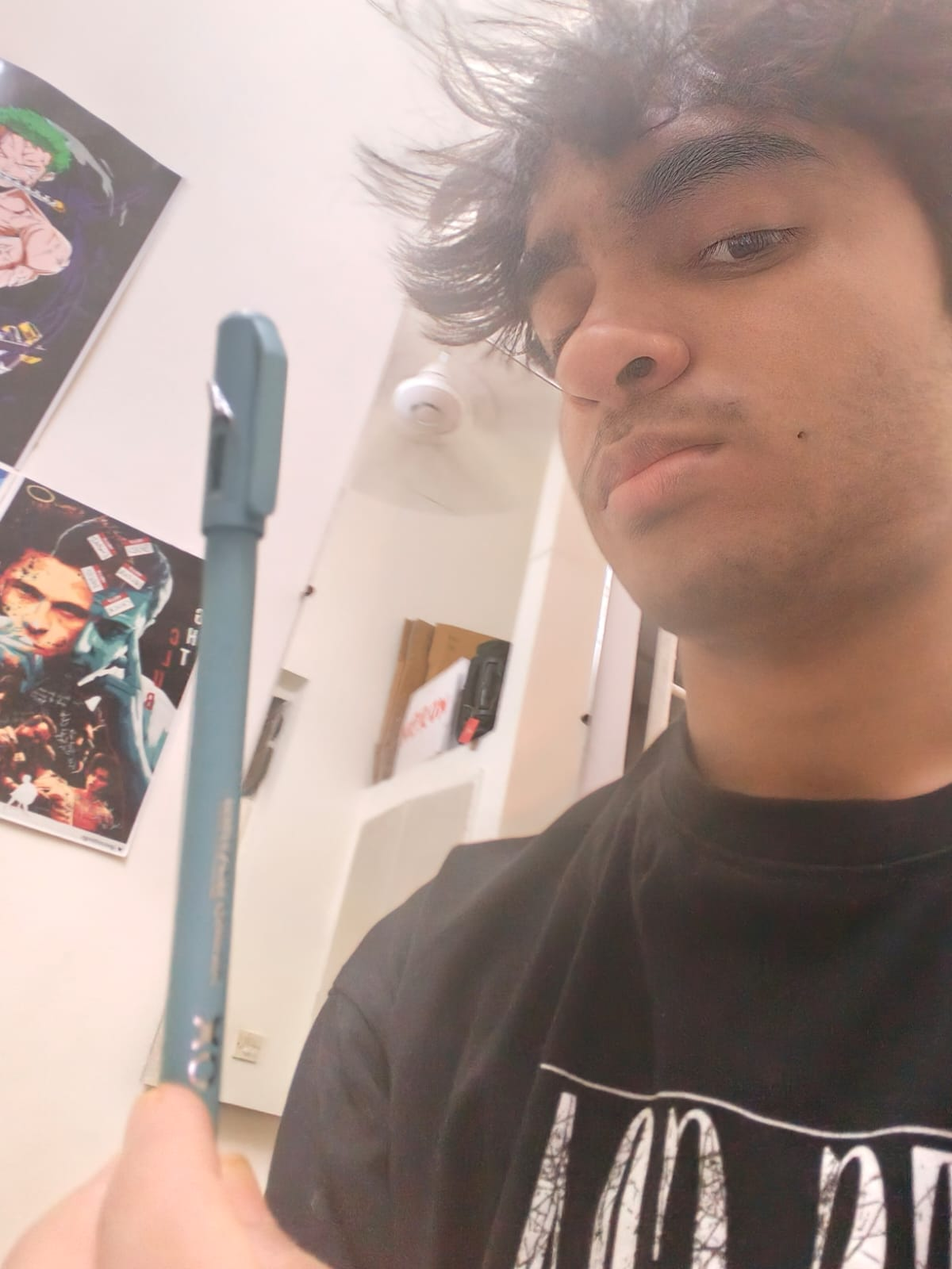pen: (166, 280, 299, 1123)
